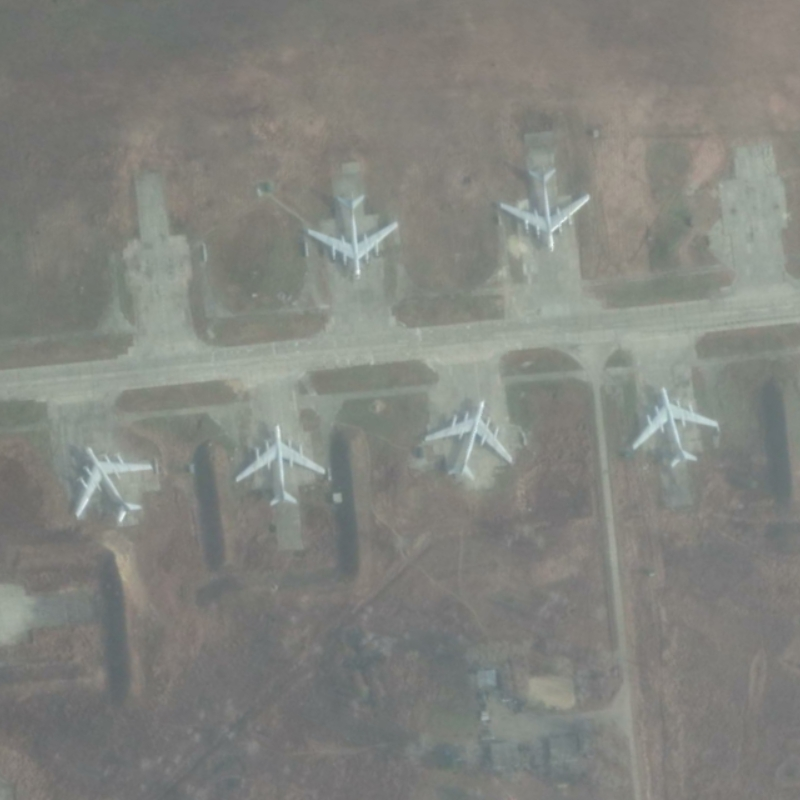A17: (305, 190, 401, 282), (498, 166, 592, 254), (233, 421, 328, 508), (422, 399, 515, 483), (630, 383, 720, 469), (72, 443, 156, 525)
